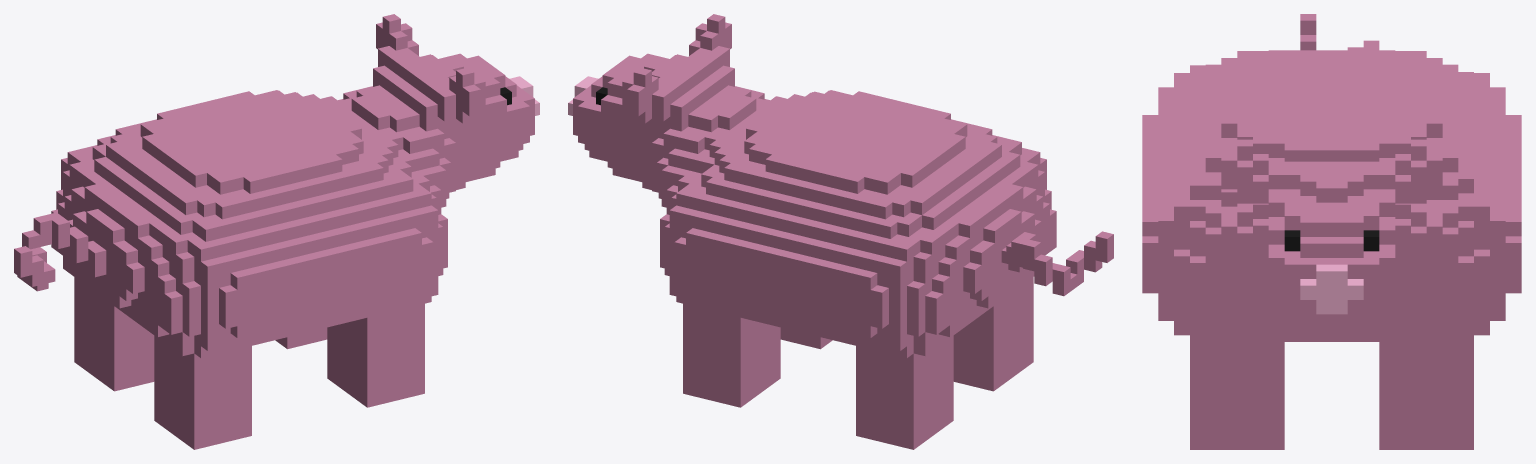
File: Pig_Idle00.obj
The picture shows the model from 3 angles, left to right: view 1: azimuth 30°, elevation 25°; view 2: azimuth 150°, elevation 25°; view 3: azimuth 270°, elevation 25°; orthographic projection. The views are drawn at different scales.
Size of the model in its own units: 45 by 24 by 24.
Materials: 1 (1 with a texture image).
